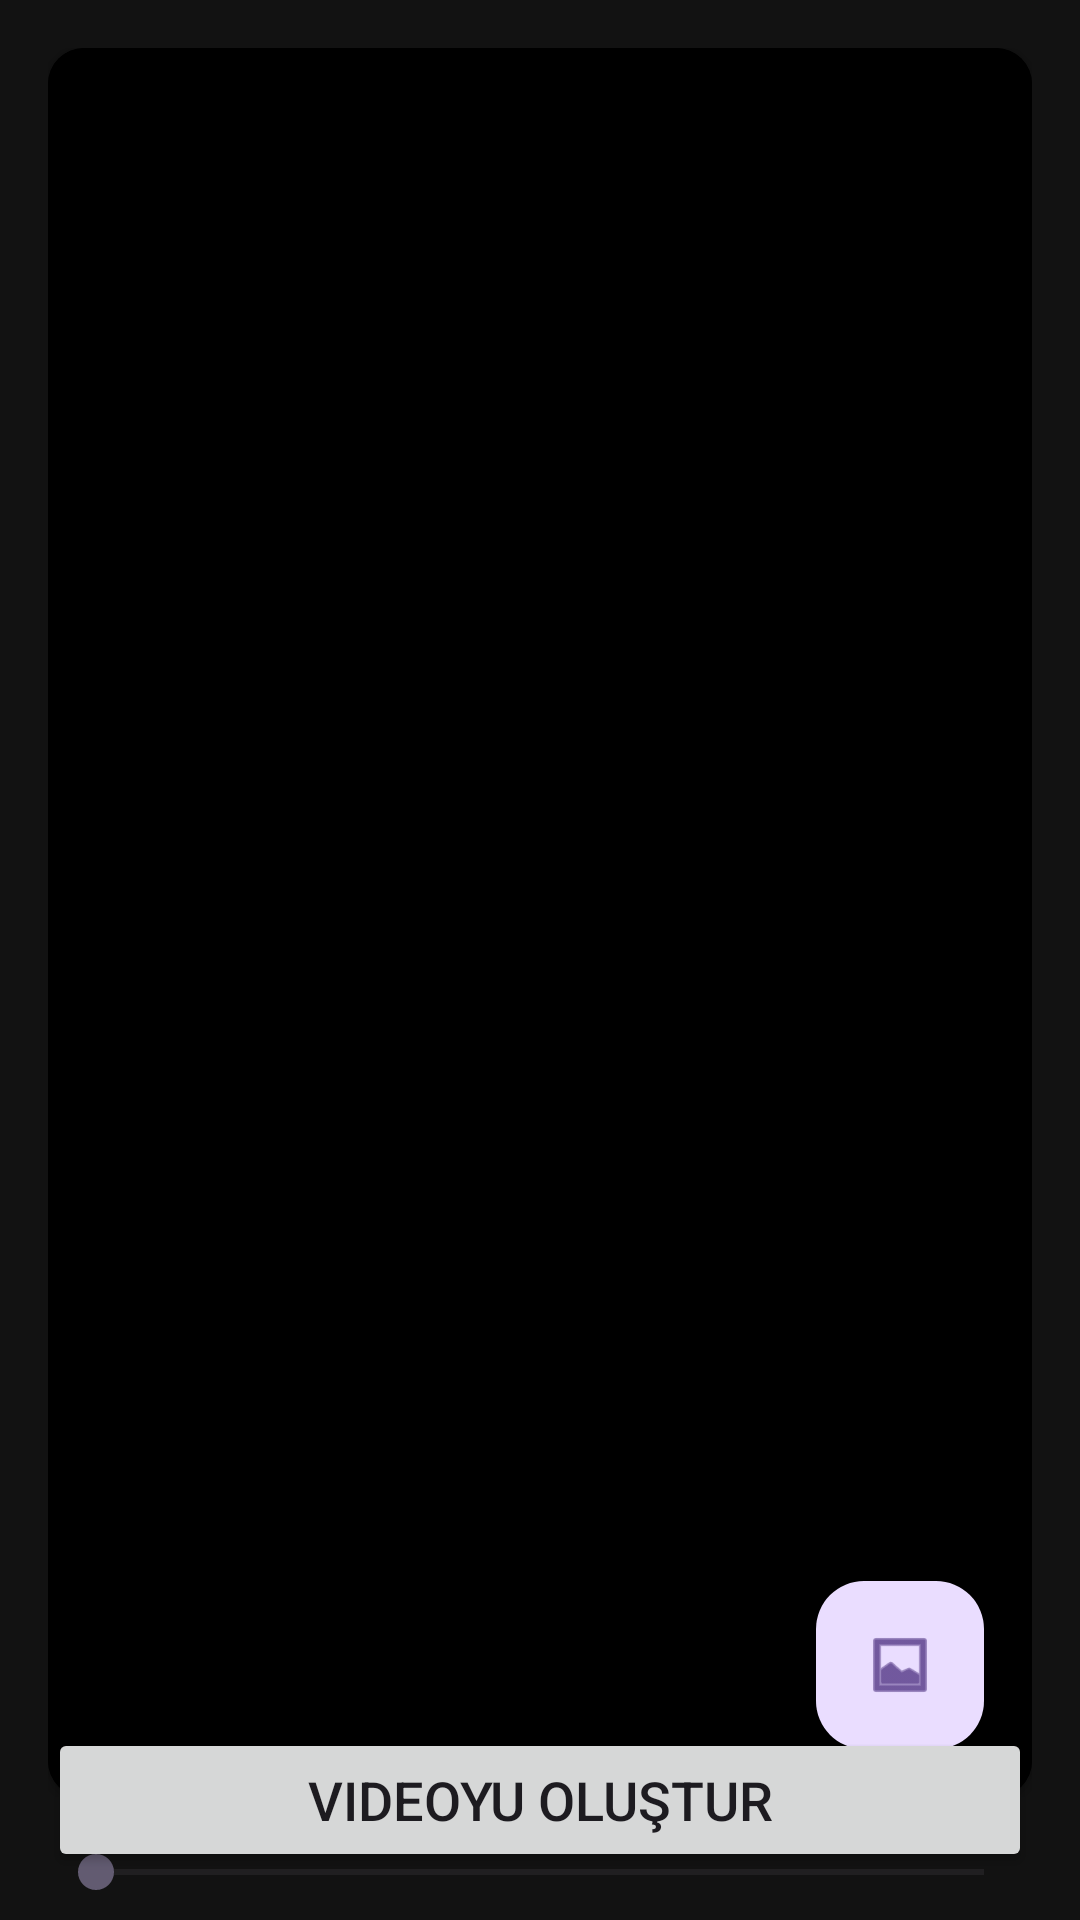

Where icons sit on this 1080x1920 app screen, as (x1=x1, y1=y1, x2=x2, y2=y2):
Arka Planı Değiştir: (x1=816, y1=1581, x2=984, y2=1749)
